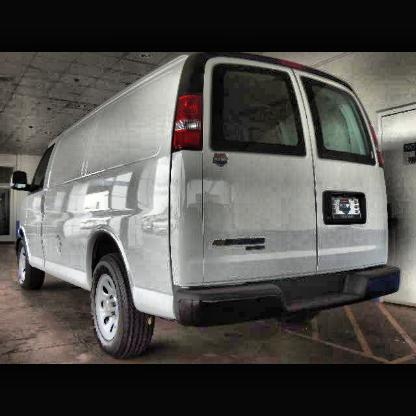Chevrolet Express Cargo Van 2007: (15, 57, 406, 347)
